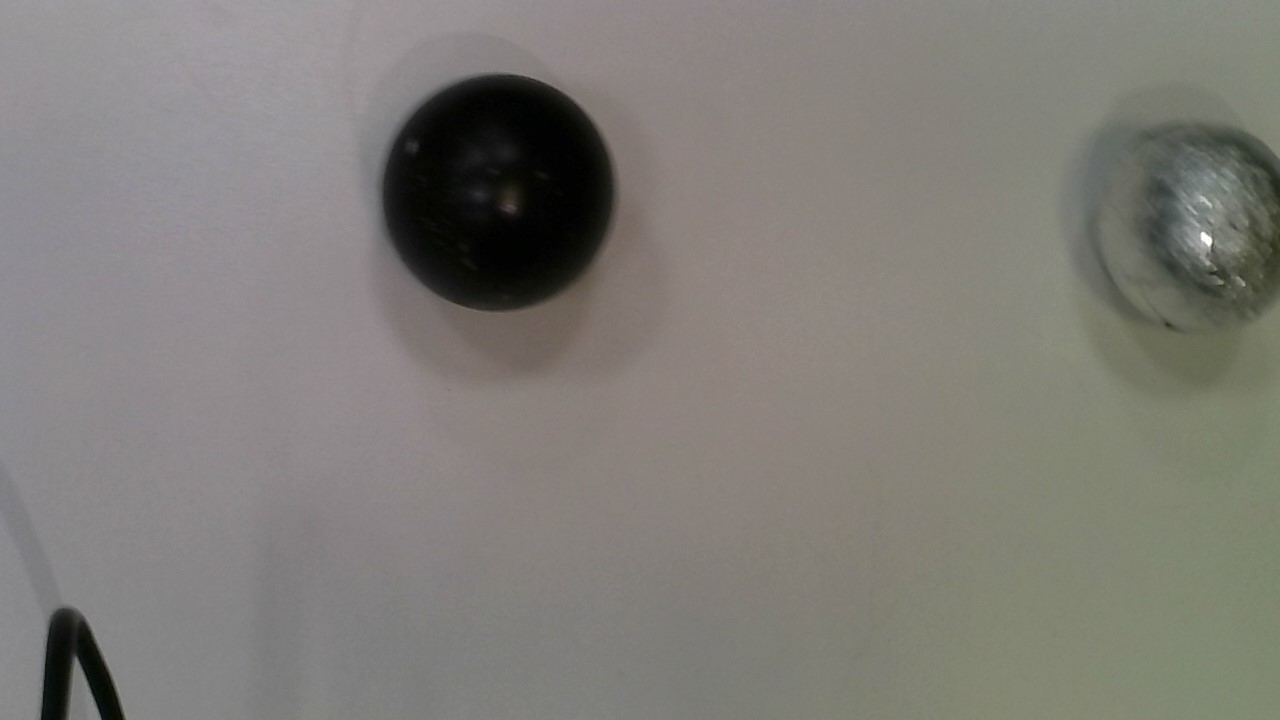black_ball: (361, 66, 628, 319)
silver_ball: (1082, 109, 1280, 347)
